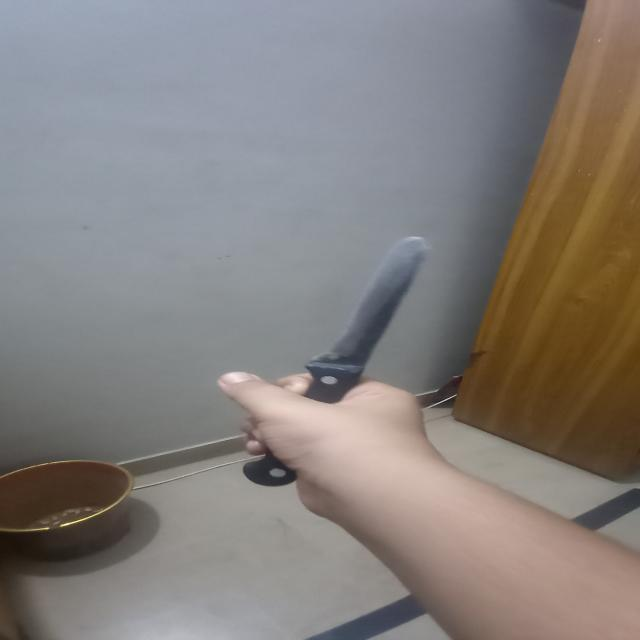Knife: (216, 231, 432, 502)
